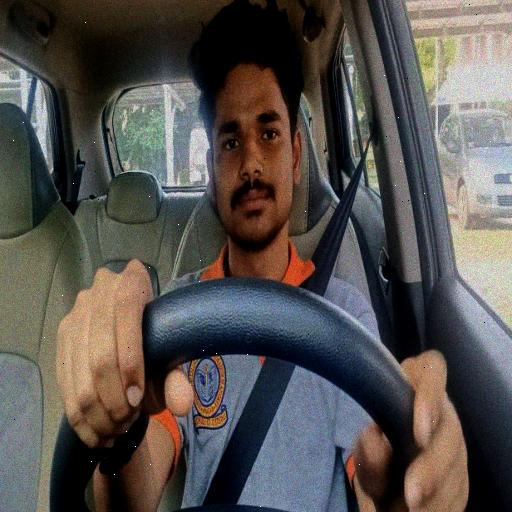Normal: (157, 0, 338, 309)
